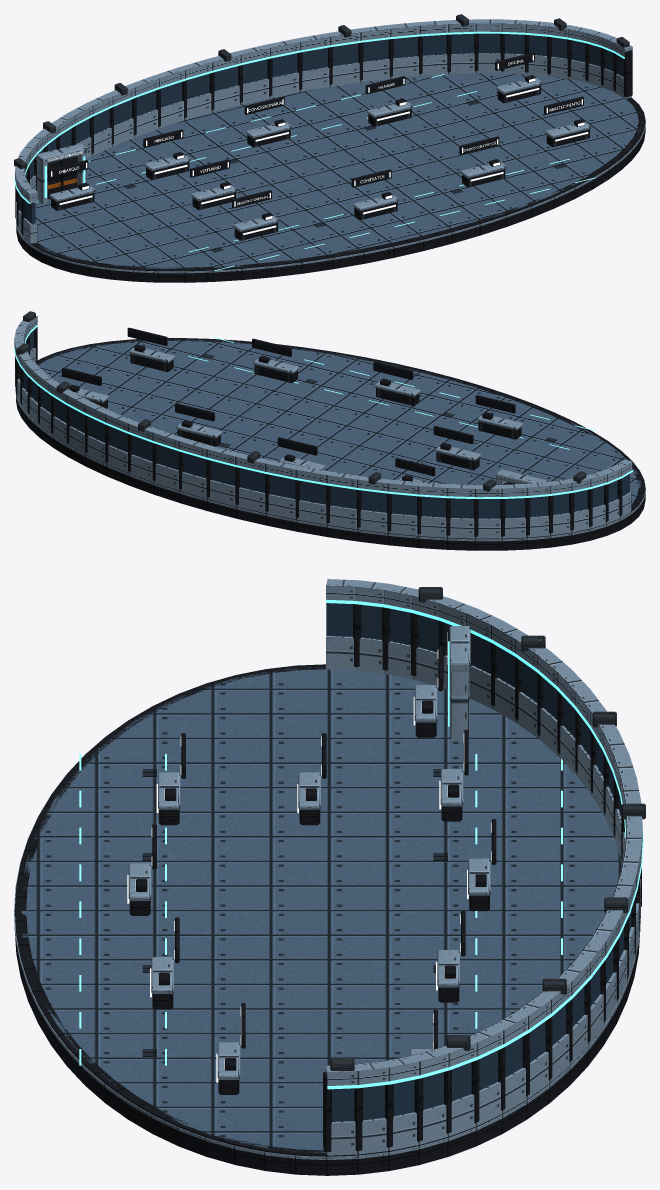
Rendered from estacao-galatica-interior.glb.
3 renders of one model, top to bottom at view 1: azimuth 30°, elevation 25°; view 2: azimuth 150°, elevation 25°; view 3: azimuth 270°, elevation 25°, orthographic. The views are drawn at different scales.
Parts seen in each view (by area): view 1: Piso oval com juntas, rebites e placas, Friso do convés, Borda estrutural do convés, Janela panorâmica, Luminária do arco, Reforço da janela, Letreiro · Embarque; view 2: Piso oval com juntas, rebites e placas, Friso do convés, Borda estrutural do convés, Janela panorâmica, Luminária do arco, Reforço da janela; view 3: Piso oval com juntas, rebites e placas, Friso do convés, Borda estrutural do convés, Janela panorâmica, Luminária do arco, Reforço da janela.
Boxes of the visible parts, box(x1,y1,x2,y2) form: Piso oval com juntas, rebites e placas: box(35, 73, 641, 268); Friso do convés: box(15, 19, 645, 273); Borda estrutural do convés: box(15, 33, 645, 282); Janela panorâmica: box(20, 33, 623, 224); Luminária do arco: box(14, 31, 632, 270); Reforço da janela: box(14, 14, 629, 240); Letreiro · Embarque: box(48, 59, 580, 204); Piso oval com juntas, rebites e placas: box(37, 339, 641, 505); Friso do convés: box(14, 316, 645, 541); Borda estrutural do convés: box(15, 327, 645, 550); Janela panorâmica: box(19, 330, 629, 518); Luminária do arco: box(14, 324, 632, 498); Reforço da janela: box(16, 311, 586, 491); Piso oval com juntas, rebites e placas: box(21, 667, 622, 1152); Friso do convés: box(14, 579, 642, 1159); Borda estrutural do convés: box(14, 604, 641, 1175); Janela panorâmica: box(326, 603, 631, 1121); Luminária do arco: box(79, 599, 643, 1089); Reforço da janela: box(129, 587, 645, 1093).
Size of the model in its own units: 723 by 77 by 391.
Materials: 18 (5 with a texture image).
